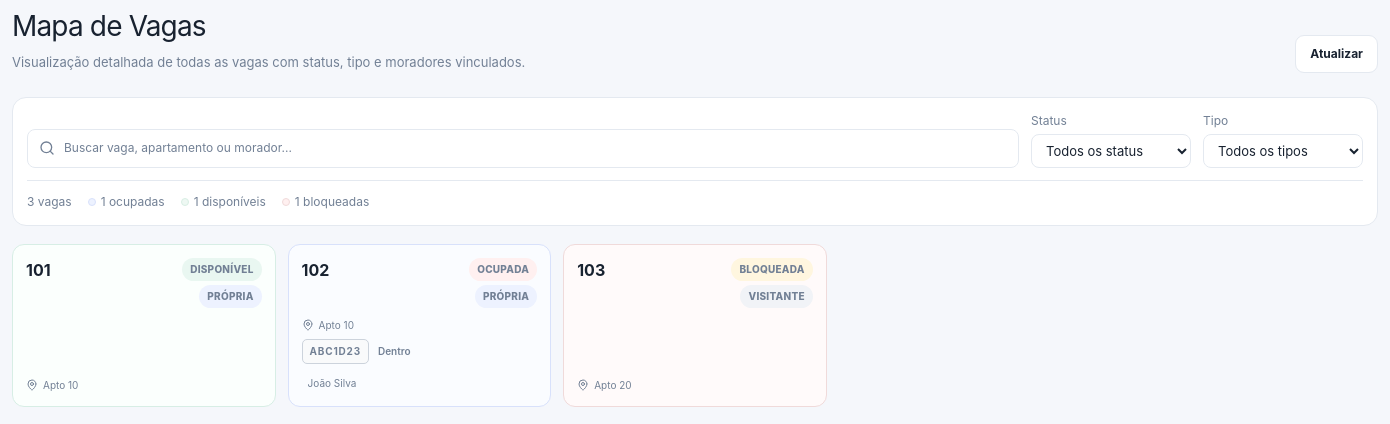
Test: ParkingMapPage › filters by status
The width and height of the screenshot is (1390, 424).
Expected: the text "101" is shown, [26, 258, 51, 282]
Select "Ocupada" in the dropdown named "Filtrar por status" at (1111, 150), box [1031, 134, 1191, 168]
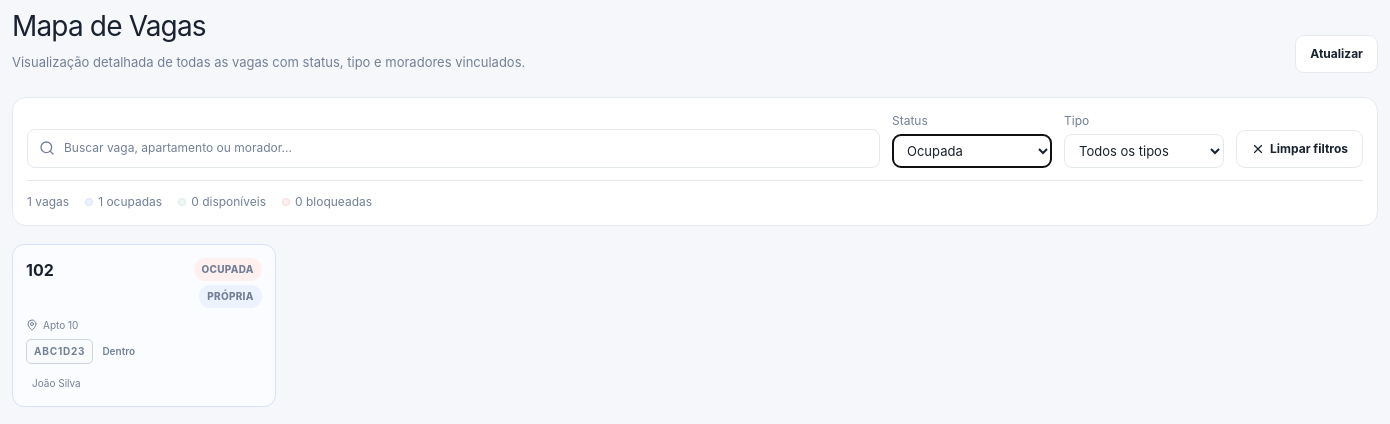
Expected: the text "102" is shown, [26, 258, 54, 282]
Expected: the text "101" is gone
Expected: the text "103" is gone
